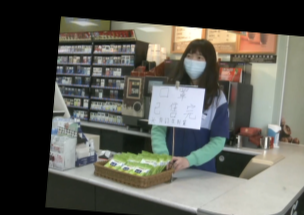with_mask: (182, 50, 206, 79)
